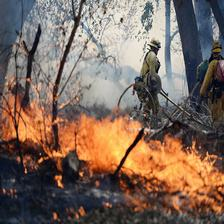fire: (2, 86, 224, 216)
